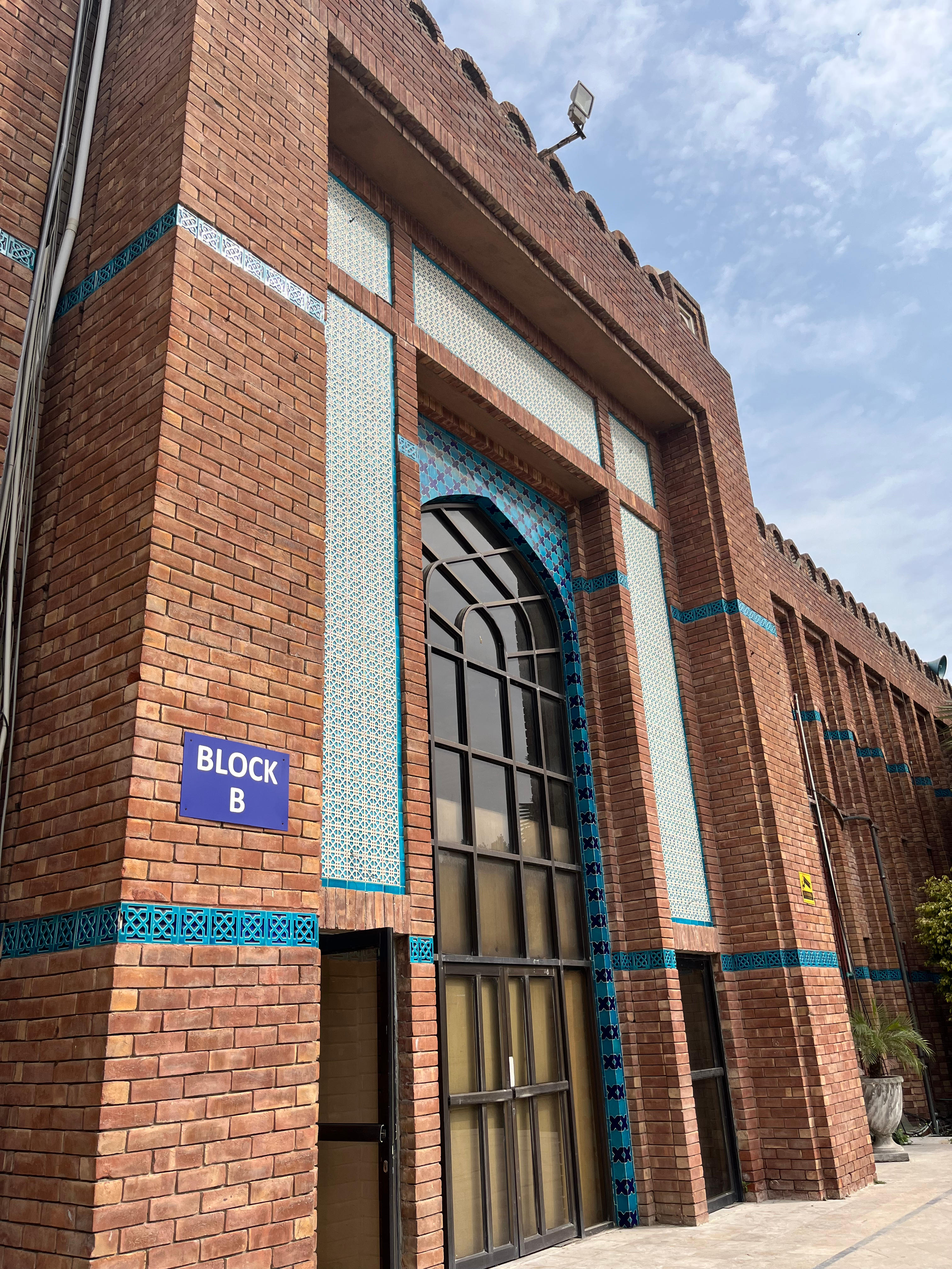Block B: (4, 0, 952, 1255)
